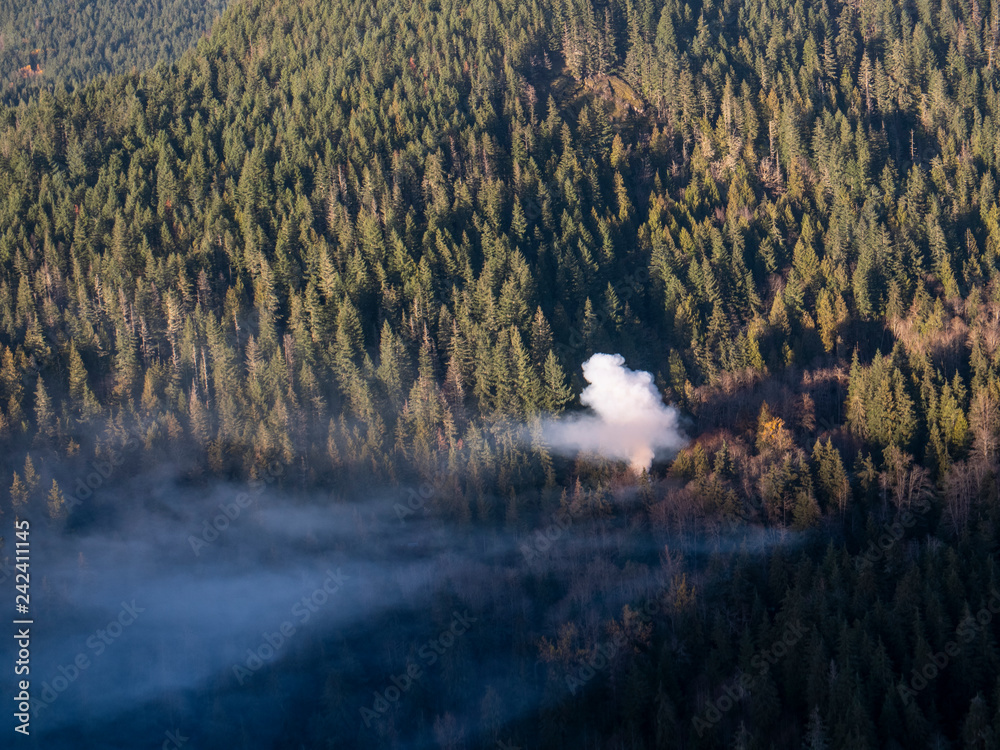fire: (532, 345, 733, 515)
